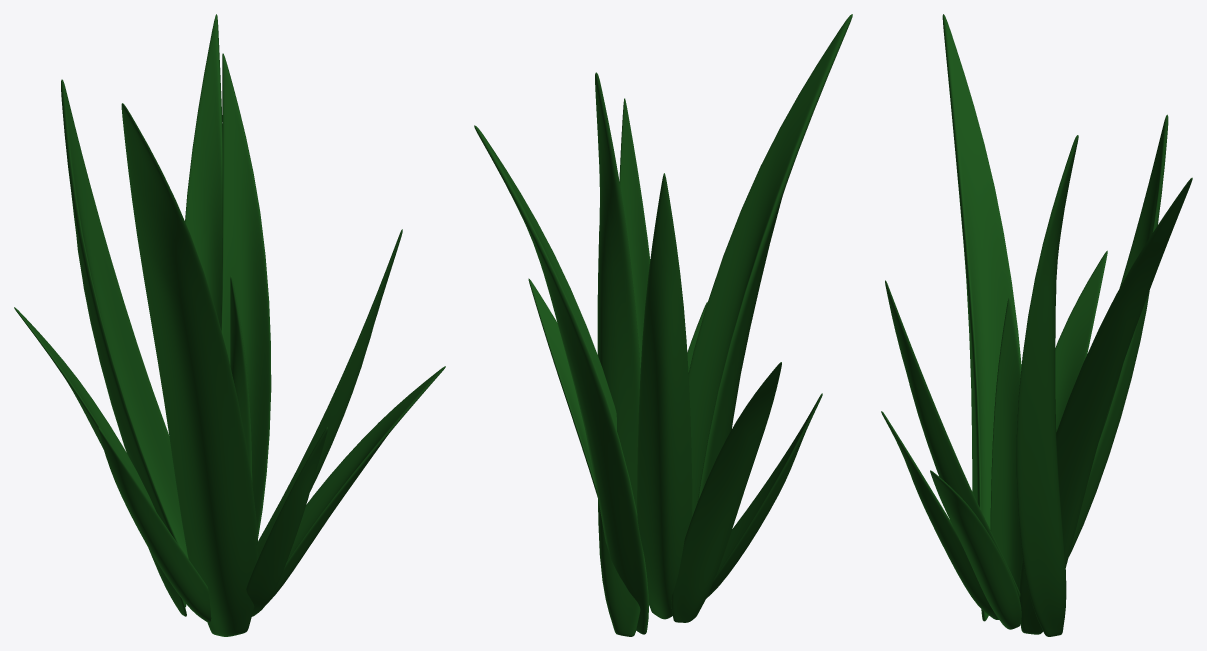
File: Planta.obj
3 views of the same model, side by side, from view 1: azimuth 30°, elevation 25°; view 2: azimuth 150°, elevation 25°; view 3: azimuth 270°, elevation 25° (orthographic). The views are drawn at different scales.
Parts seen in each view (by area): view 1: _Aloe_Plant_v1_max2008_it2:_Aloe_Plant_v1; view 2: _Aloe_Plant_v1_max2008_it2:_Aloe_Plant_v1; view 3: _Aloe_Plant_v1_max2008_it2:_Aloe_Plant_v1.
Boxes of the visible parts, box(x1,y1,x2,y2) form: _Aloe_Plant_v1_max2008_it2:_Aloe_Plant_v1: box(14, 14, 445, 636); _Aloe_Plant_v1_max2008_it2:_Aloe_Plant_v1: box(474, 14, 852, 636); _Aloe_Plant_v1_max2008_it2:_Aloe_Plant_v1: box(881, 14, 1192, 636).
Size of the model in its own units: 2.87 by 4.8 by 2.46.
